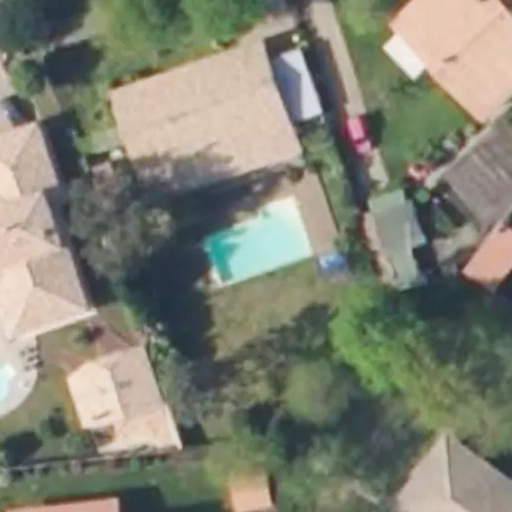pool: (198, 229, 309, 254)
